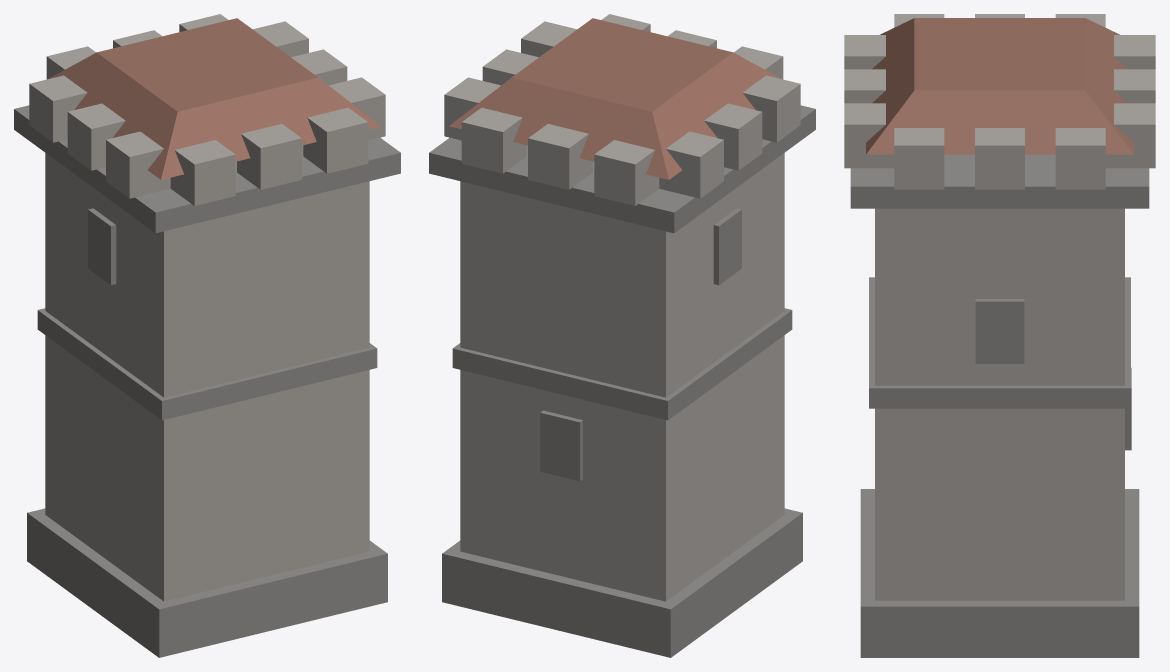
File: tower_square.glb
The picture shows the model from 3 angles, left to right: view 1: azimuth 30°, elevation 25°; view 2: azimuth 150°, elevation 25°; view 3: azimuth 270°, elevation 25°; orthographic projection. The views are drawn at different scales.
Parts seen in each view (by area): view 1: tower_square; view 2: tower_square; view 3: tower_square.
Boxes of the visible parts, x1,y1,x2,y2 form: tower_square: [14, 14, 400, 657]; tower_square: [429, 14, 815, 657]; tower_square: [844, 14, 1155, 657].
Bounding box in the file's own units: 3.86 × 7.45 × 3.86.
